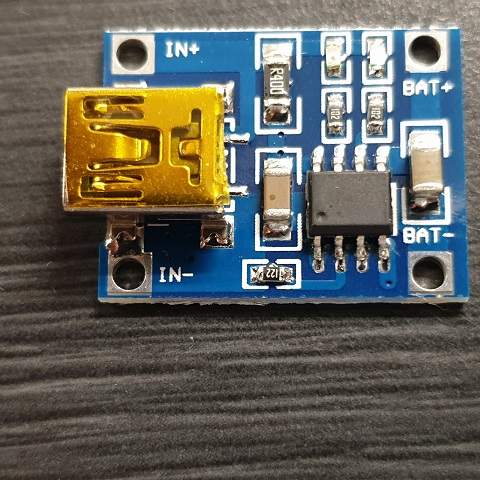batt+: (409, 30, 448, 74)
batt-: (404, 250, 452, 292)
charge: (324, 27, 353, 86)
done: (356, 23, 392, 82)
rprog: (240, 259, 300, 288)
usb: (56, 86, 226, 212)
